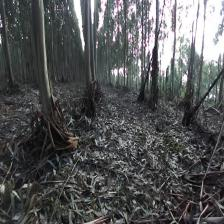trunk: (30, 4, 52, 111), (1, 15, 15, 85), (84, 4, 92, 87)
